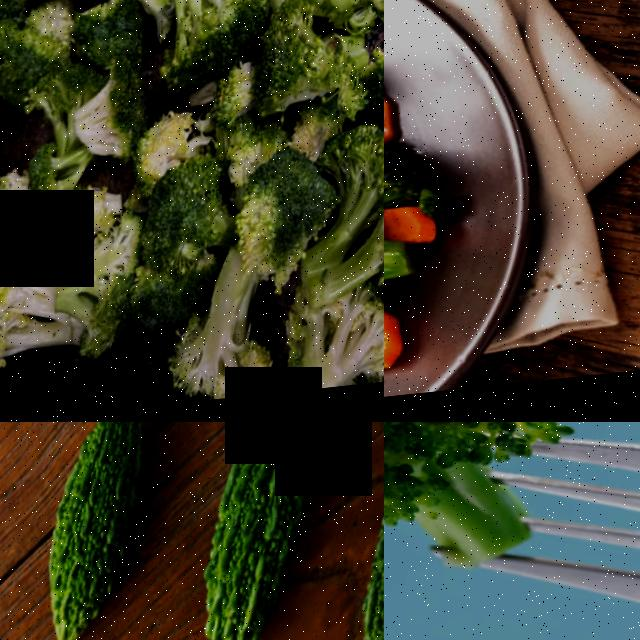bitter gourd: (152, 422, 376, 640), (8, 422, 193, 640)
broccoli: (384, 422, 552, 640), (212, 124, 350, 313), (106, 189, 232, 368), (150, 0, 276, 127), (61, 55, 162, 194), (265, 292, 384, 401), (307, 147, 384, 307), (175, 291, 278, 409), (0, 260, 76, 384), (384, 210, 430, 361), (230, 0, 352, 47), (384, 124, 433, 236)
